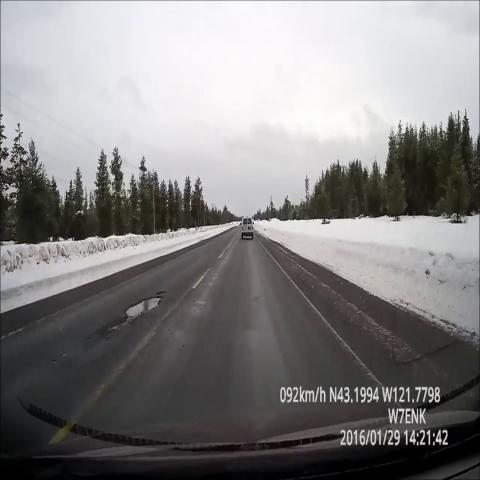pothole: (98, 290, 171, 347)
